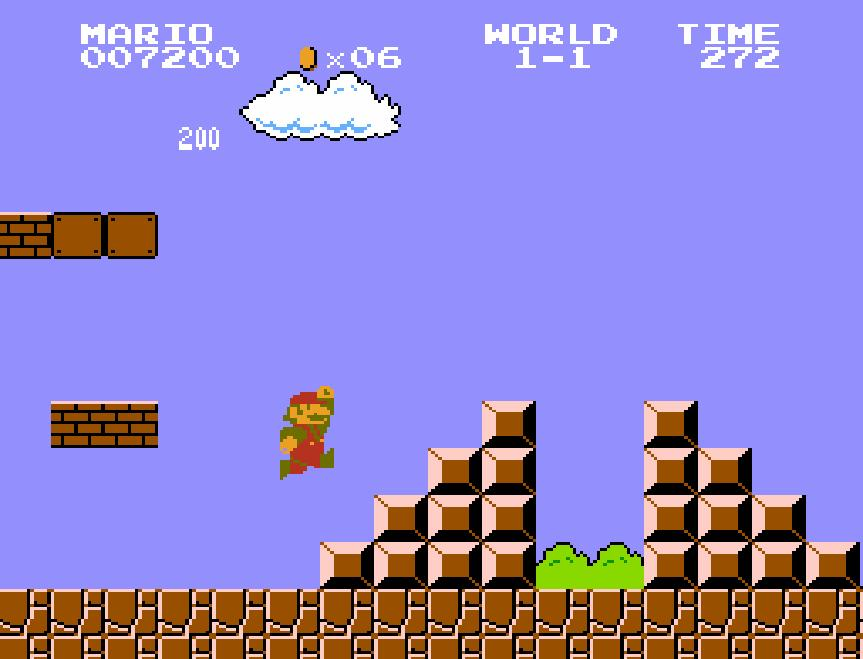big_mario: (278, 384, 336, 482)
